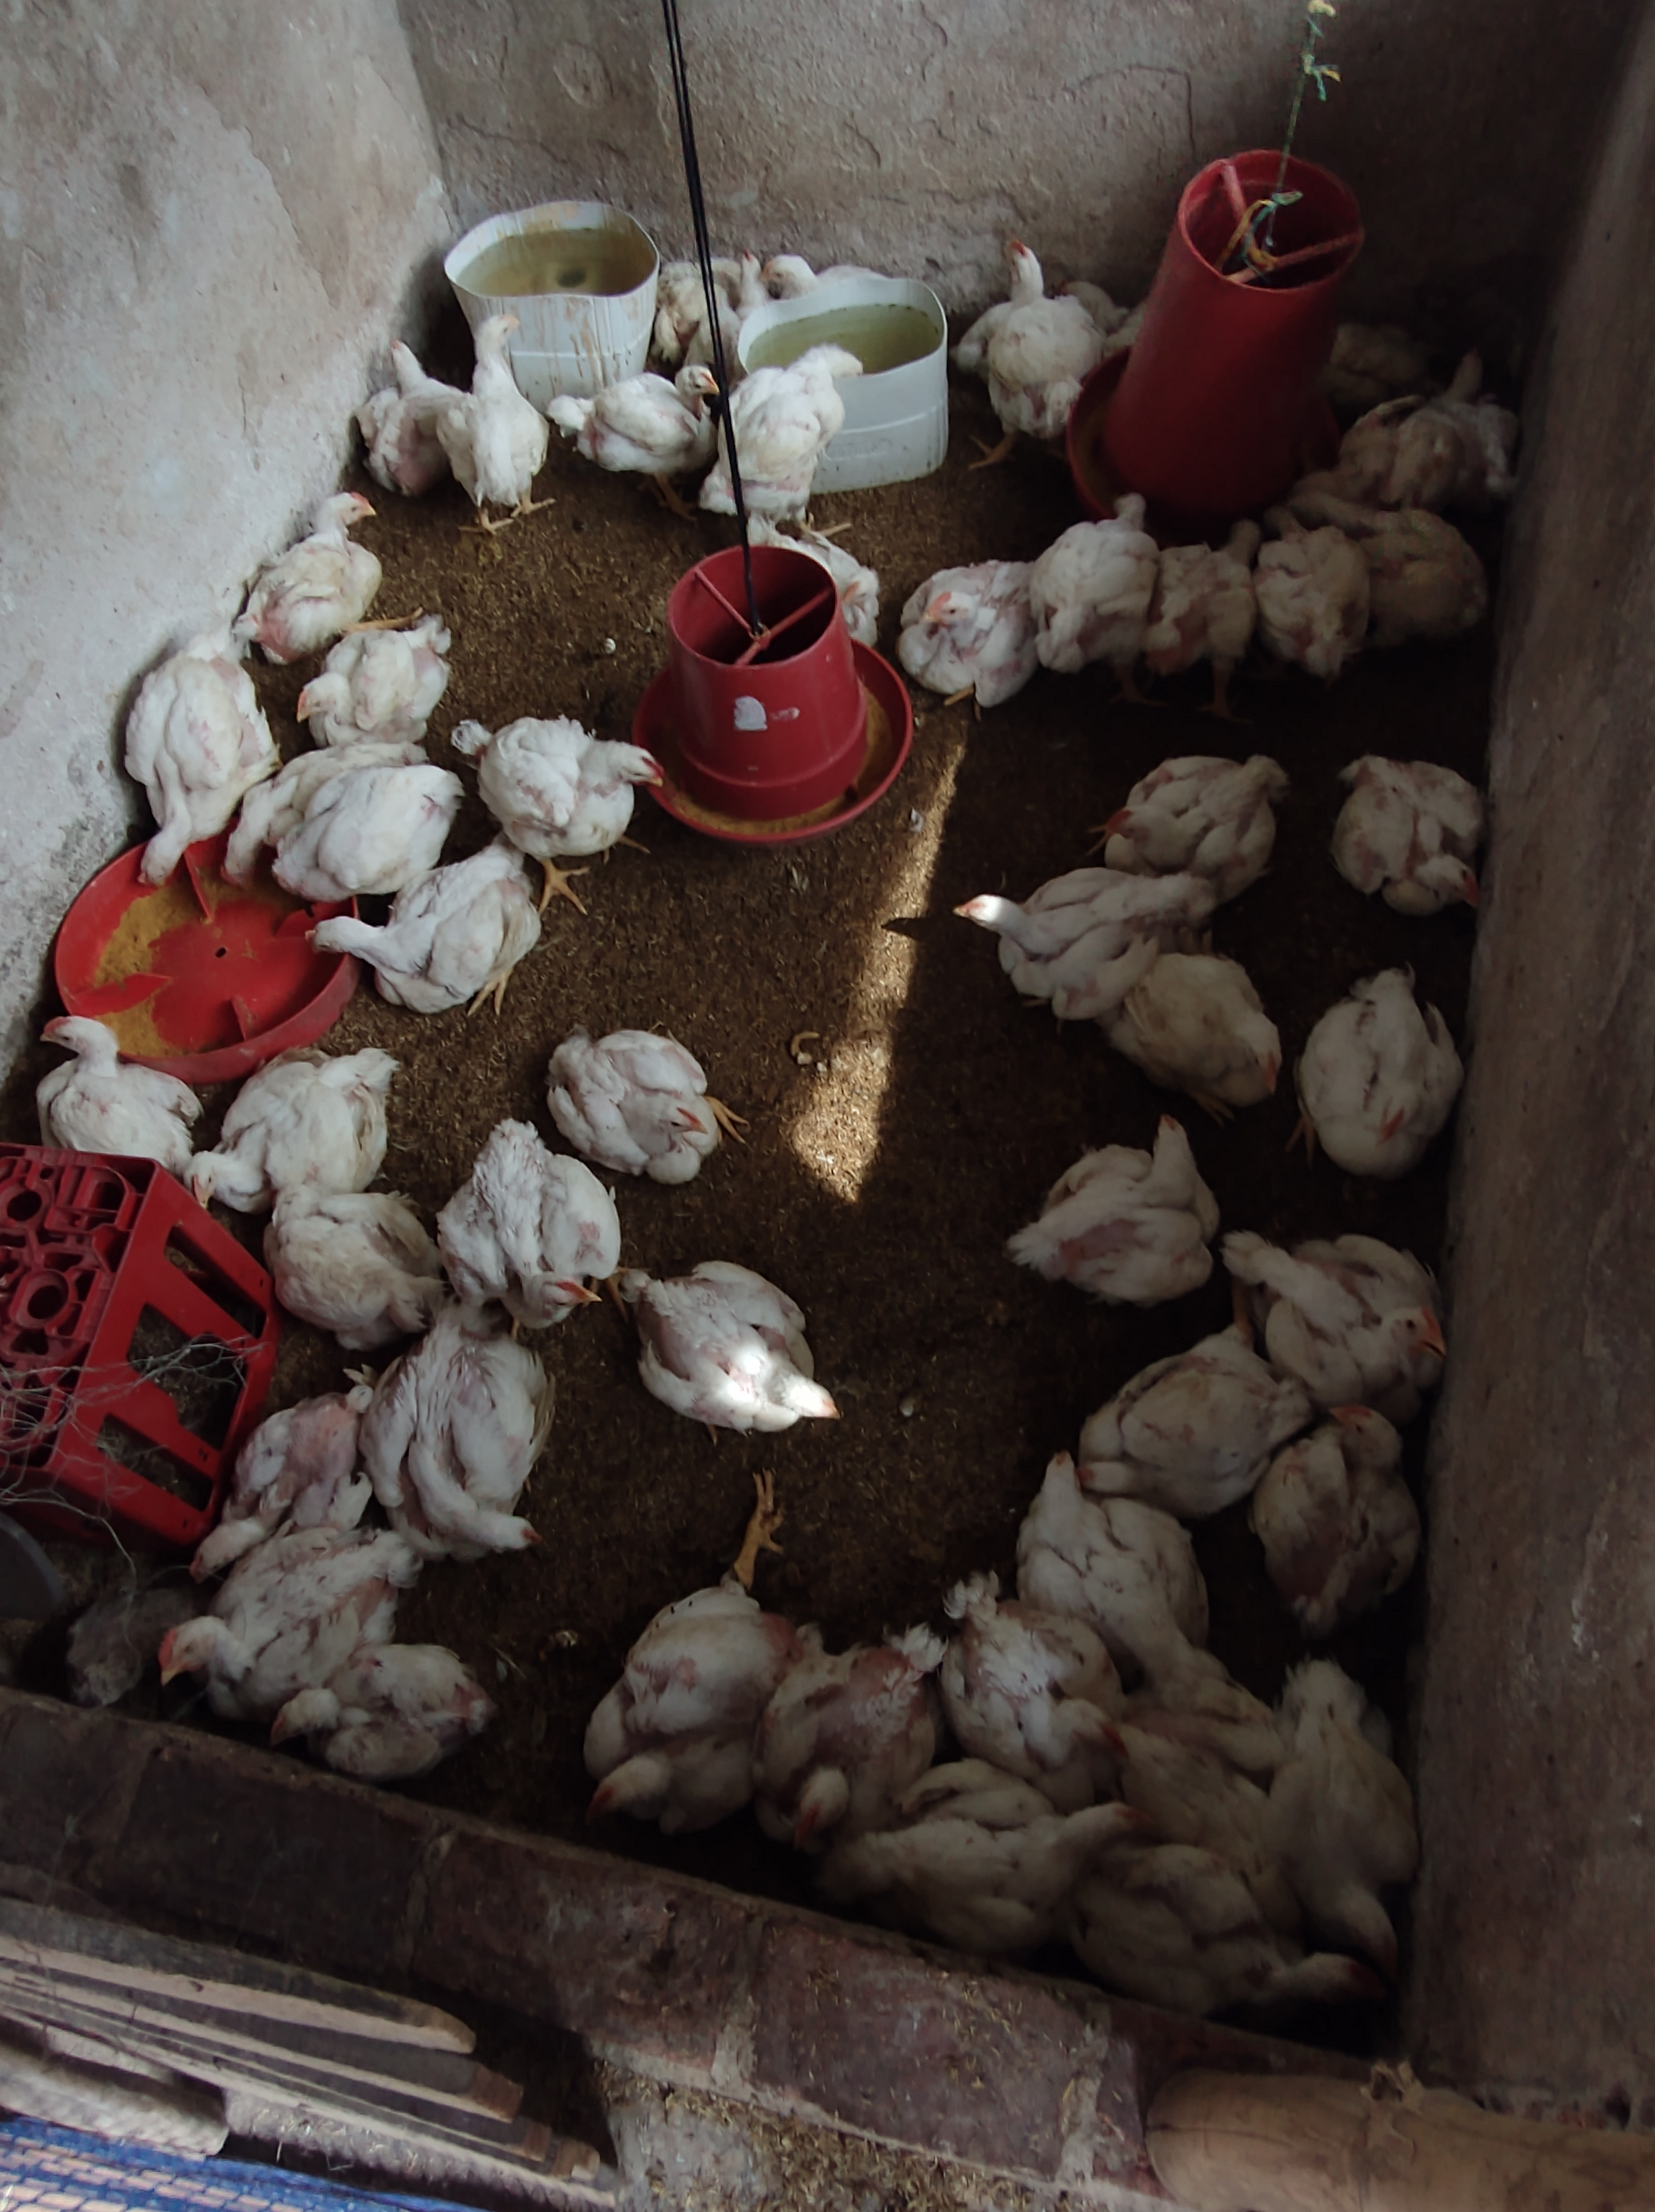Pollos: (570, 1600, 754, 1836), (1128, 1861, 1373, 2022), (628, 1261, 845, 1436), (382, 1325, 548, 1553), (1007, 1445, 1184, 1652), (186, 1049, 396, 1217), (1257, 1396, 1419, 1609), (1036, 1104, 1222, 1282), (906, 1795, 1156, 1925), (970, 1612, 1128, 1800), (1264, 1242, 1452, 1395), (130, 633, 240, 889), (1323, 969, 1460, 1162), (271, 756, 459, 896), (483, 715, 668, 854), (770, 1647, 897, 1843), (179, 1416, 329, 1581), (455, 1151, 607, 1313), (1368, 337, 1516, 503), (1121, 960, 1290, 1104), (548, 1035, 723, 1172), (1337, 755, 1486, 915), (1090, 755, 1290, 873), (26, 1012, 183, 1160), (947, 868, 1121, 1000), (1033, 492, 1163, 666), (316, 909, 541, 1010), (271, 1654, 480, 1762), (282, 610, 455, 736), (730, 343, 861, 506), (1257, 497, 1375, 671), (247, 490, 384, 633), (991, 238, 1090, 431), (572, 363, 728, 476), (1156, 522, 1252, 687), (148, 1598, 306, 1696), (909, 563, 1026, 696), (452, 306, 525, 508), (367, 339, 433, 485), (756, 243, 880, 294)
